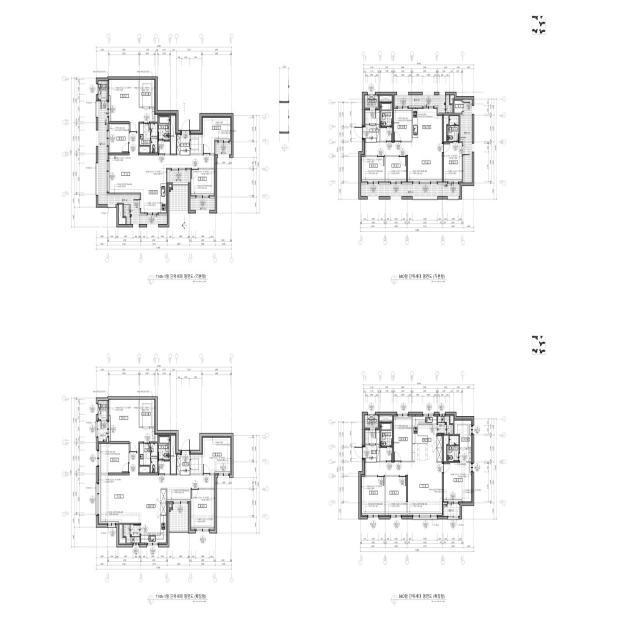space_balconi: (98, 101, 167, 224), (361, 184, 460, 197), (395, 95, 452, 113), (461, 99, 472, 183), (169, 506, 188, 531), (169, 186, 188, 211), (123, 525, 140, 543), (190, 198, 215, 210), (438, 416, 453, 434), (169, 171, 188, 183), (444, 504, 460, 516), (98, 421, 107, 441), (216, 143, 231, 155)
space_bedroom: (109, 400, 154, 452), (109, 80, 154, 132), (444, 449, 471, 502), (203, 437, 231, 473), (203, 117, 231, 153), (191, 490, 215, 529), (362, 477, 385, 515), (99, 444, 128, 473), (386, 477, 406, 515), (444, 143, 462, 182), (191, 170, 215, 196), (362, 157, 385, 182), (109, 124, 128, 153), (386, 157, 406, 182)
space_dressroom: (454, 421, 471, 448), (140, 400, 155, 427), (140, 80, 155, 107)
space_front: (177, 133, 190, 155), (363, 445, 379, 462), (177, 455, 190, 475), (365, 125, 380, 142)
space_kitchen: (412, 417, 442, 462), (141, 489, 166, 543), (141, 170, 166, 213), (412, 109, 442, 142)
space_living_room: (99, 453, 215, 523), (107, 132, 215, 194), (365, 463, 442, 515), (365, 143, 442, 182)
space_other: (394, 416, 411, 461), (394, 109, 411, 141), (167, 488, 190, 501), (191, 134, 202, 153), (191, 455, 202, 473), (365, 430, 379, 444), (365, 110, 379, 124), (171, 436, 176, 474), (171, 116, 176, 154), (158, 461, 170, 474), (158, 141, 170, 154), (381, 448, 392, 461), (381, 128, 392, 141), (119, 525, 125, 544), (119, 205, 125, 224), (444, 436, 448, 461), (444, 116, 448, 141), (454, 101, 462, 113), (380, 416, 392, 421), (139, 147, 149, 153), (380, 96, 392, 101), (450, 95, 454, 103), (450, 416, 453, 423), (155, 434, 157, 442), (155, 114, 157, 122), (169, 504, 171, 507), (169, 185, 171, 187)
space_outdoor_room: (98, 401, 107, 420), (98, 81, 107, 100), (365, 415, 378, 428), (365, 95, 378, 108)
space_toilet: (139, 443, 157, 473), (140, 124, 157, 153), (447, 436, 459, 461), (380, 102, 392, 127), (447, 116, 459, 141), (158, 436, 170, 460), (158, 116, 170, 140), (381, 423, 392, 446)
